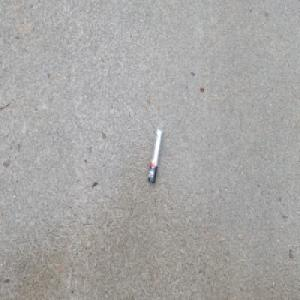Battery: (147, 126, 163, 184)
